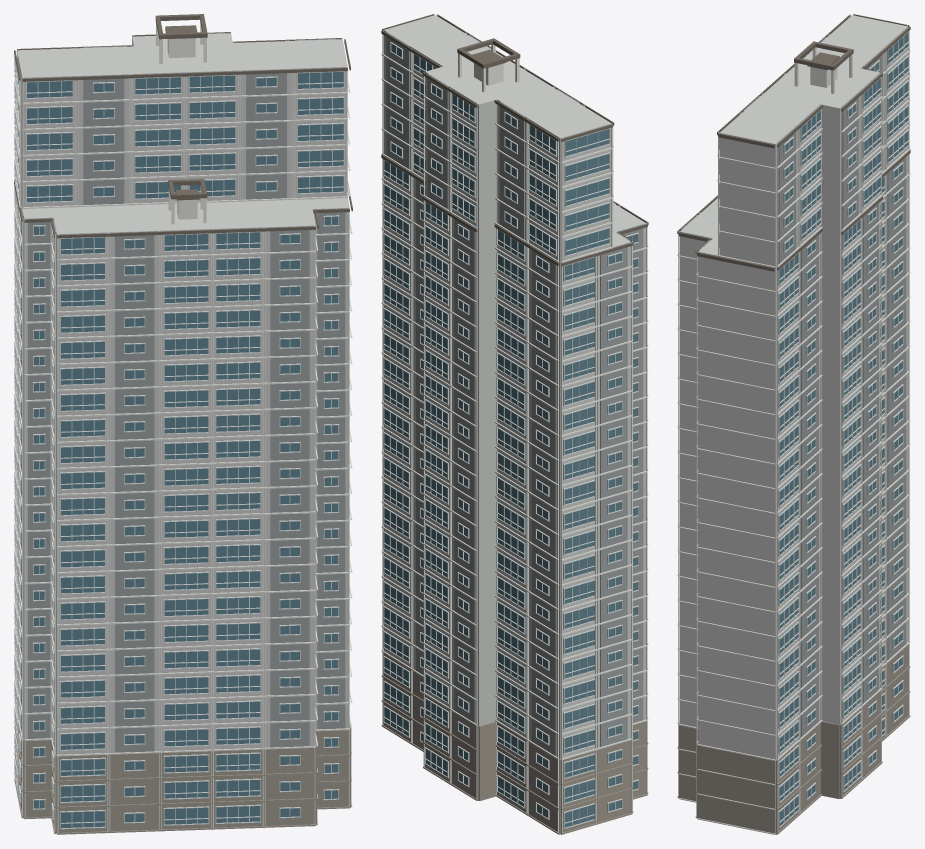
The model's file is bespoke-banpo-xi-136.glb.
The picture shows the model from 3 angles, left to right: view 1: azimuth 30°, elevation 25°; view 2: azimuth 150°, elevation 25°; view 3: azimuth 270°, elevation 25°; orthographic projection. The views are drawn at different scales.
Parts seen in each view (by area): view 1: editable_BX136_pale_silver_limestone, editable_BX136_blue_grey_broad_glazing, editable_BX136_grey_service_core, editable_BX136_white_window_frames, editable_BX136_ivory_course_bands, editable_BX136_warm_ground_stone, editable_BX136_dark_coping; view 2: editable_BX136_pale_silver_limestone, editable_BX136_blue_grey_broad_glazing, editable_BX136_grey_service_core, editable_BX136_white_window_frames, editable_BX136_ivory_course_bands, editable_BX136_warm_ground_stone, editable_BX136_dark_coping; view 3: editable_BX136_pale_silver_limestone, editable_BX136_ivory_course_bands, editable_BX136_white_window_frames, editable_BX136_grey_service_core, editable_BX136_blue_grey_broad_glazing, editable_BX136_warm_ground_stone, editable_BX136_dark_coping.
Boxes of the visible parts, x1,y1,x2,y2 form: editable_BX136_pale_silver_limestone: (17,33,349,832); editable_BX136_blue_grey_broad_glazing: (16,55,343,828); editable_BX136_grey_service_core: (20,33,345,754); editable_BX136_white_window_frames: (14,55,344,829); editable_BX136_ivory_course_bands: (14,22,352,834); editable_BX136_warm_ground_stone: (14,723,351,834); editable_BX136_dark_coping: (14,14,352,238); editable_BX136_pale_silver_limestone: (383,15,646,833); editable_BX136_blue_grey_broad_glazing: (384,44,637,827); editable_BX136_grey_service_core: (386,32,643,756); editable_BX136_white_window_frames: (383,42,638,828); editable_BX136_ivory_course_bands: (381,15,648,834); editable_BX136_warm_ground_stone: (381,653,648,834); editable_BX136_dark_coping: (381,14,648,266); editable_BX136_pale_silver_limestone: (680,15,907,833); editable_BX136_ivory_course_bands: (677,15,910,834); editable_BX136_white_window_frames: (719,31,909,827); editable_BX136_grey_service_core: (681,37,906,737); editable_BX136_blue_grey_broad_glazing: (719,33,907,825); editable_BX136_warm_ground_stone: (677,644,910,834); editable_BX136_dark_coping: (677,14,910,271).
Size of the model in its own units: 31.79 by 78.5 by 23.14.
